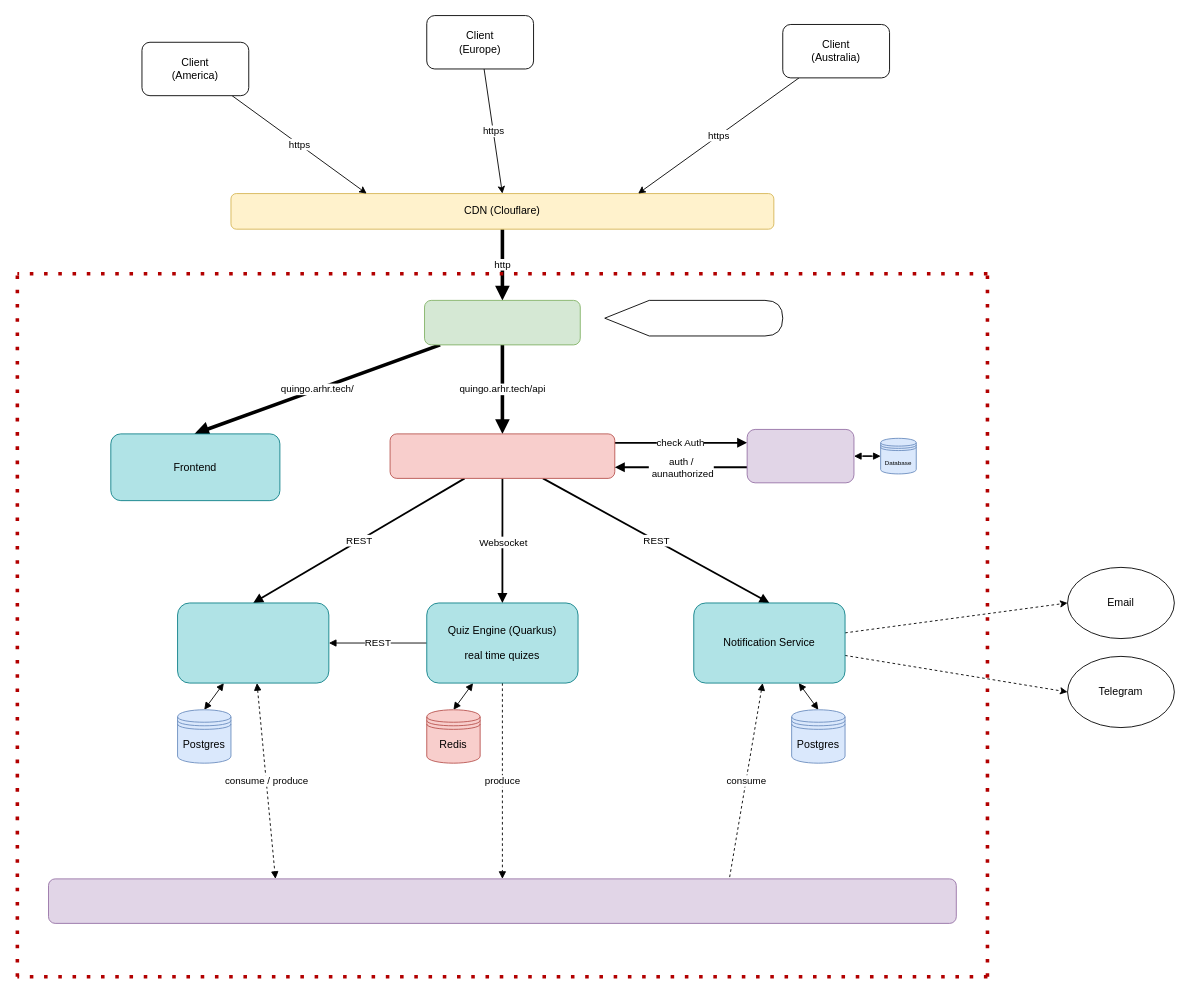
The diagram is 1190 pixels wide and 995 high, and some of its shapes have lost their labels. Here are the shapes that lost their labels. From the top down, the centre of each, then its label:
pixel 502 322: Ingress Nginx quingo.arhr.tech
pixel 693 317: Вход в k8s кластер Load Balancer
pixel 502 455: API Gateway
pixel 800 456: Keycloak
pixel 253 642: Main Service (Spring) users + quiz
pixel 502 900: Kafka
